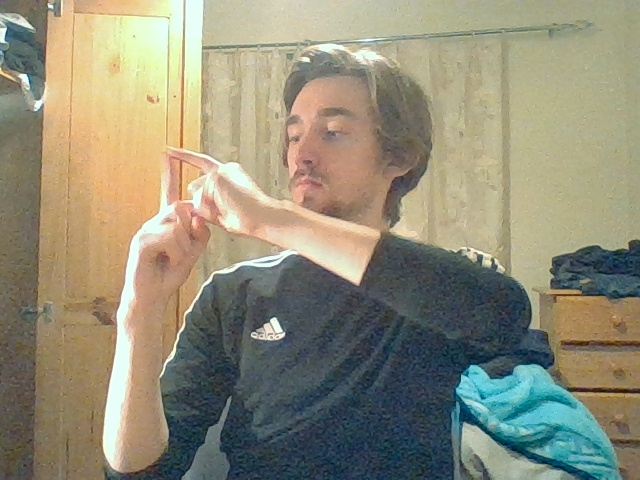daughter: (154, 145, 241, 252)
